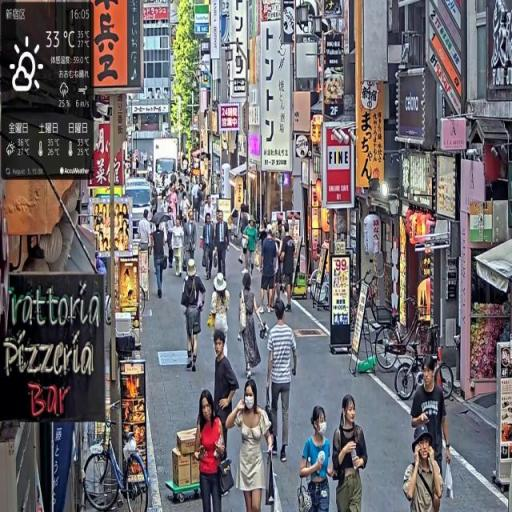person: (226, 378, 276, 512), (265, 296, 300, 463), (410, 355, 451, 496), (331, 393, 369, 512), (196, 389, 229, 512), (301, 405, 336, 512), (404, 430, 445, 512), (239, 272, 268, 379), (181, 257, 207, 374), (278, 223, 299, 316), (261, 225, 280, 318), (152, 214, 170, 301), (214, 208, 231, 280), (202, 211, 216, 284)
